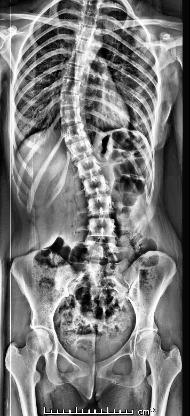Vertebrae: (85, 261, 122, 283), (84, 240, 120, 262), (84, 194, 119, 216), (79, 174, 113, 196), (85, 217, 121, 237), (65, 139, 96, 159), (71, 158, 105, 176), (56, 107, 86, 125), (60, 124, 90, 142), (65, 50, 93, 68), (56, 92, 84, 110), (69, 37, 97, 53), (58, 77, 86, 93), (62, 64, 88, 80), (78, 1, 104, 16), (76, 13, 102, 28), (73, 25, 99, 39)
